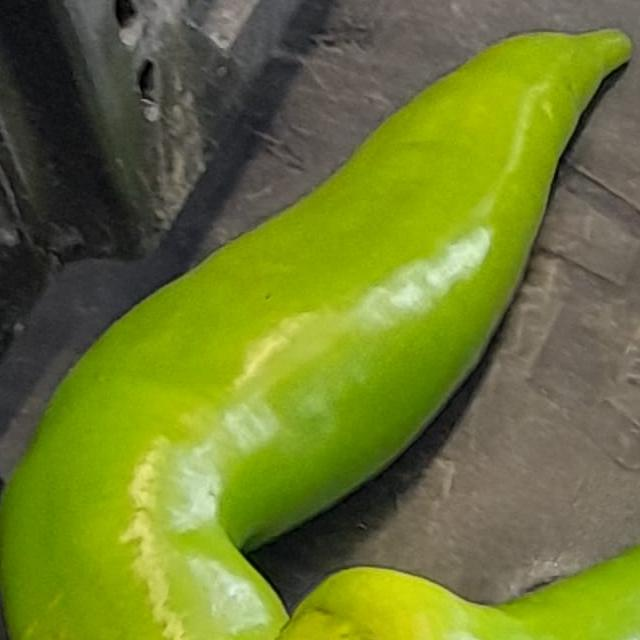chili_pepper: (0, 0, 640, 640), (173, 0, 640, 640)
